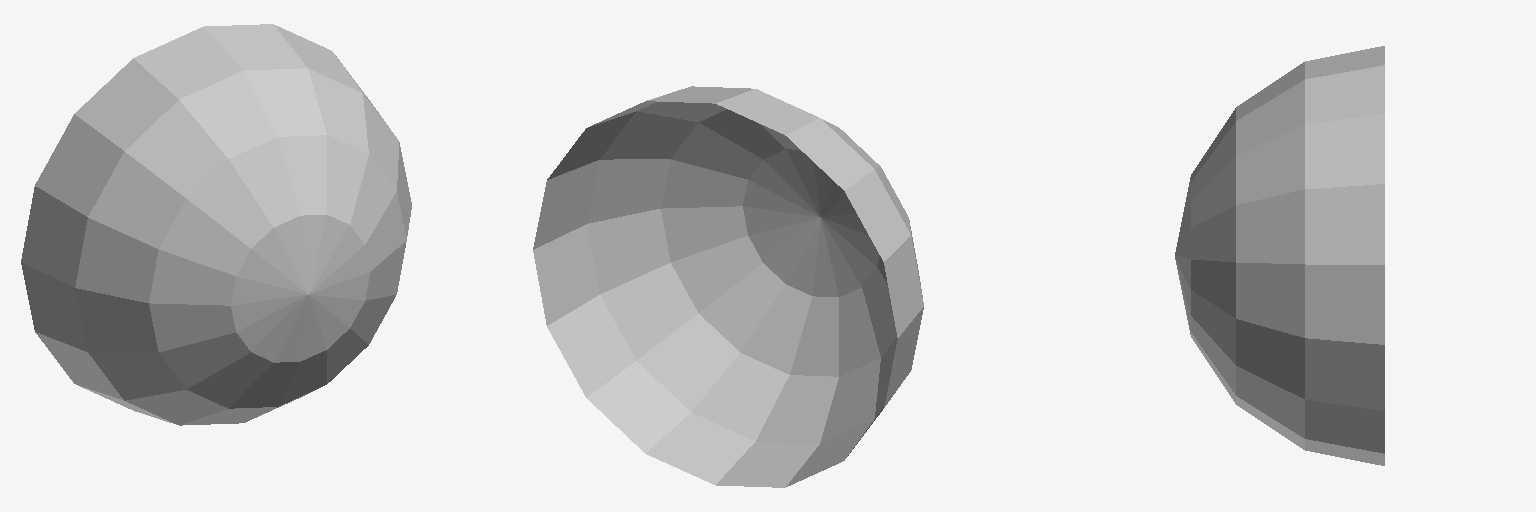
File: bak.obj
The picture shows the model from 3 angles: view 1: azimuth 30°, elevation 25°; view 2: azimuth 150°, elevation 25°; view 3: azimuth 270°, elevation 25°; orthographic projection.
Visible parts, largest first — view 1: Sphere_Sphere.001; view 2: Sphere_Sphere.001; view 3: Sphere_Sphere.001.
Part boxes in pixels (left/top/right/bottom): Sphere_Sphere.001: left=21, top=24, right=411, bottom=425; Sphere_Sphere.001: left=533, top=86, right=923, bottom=487; Sphere_Sphere.001: left=1175, top=46, right=1384, bottom=465.
Bounding box in the file's own units: 2 × 2 × 1.